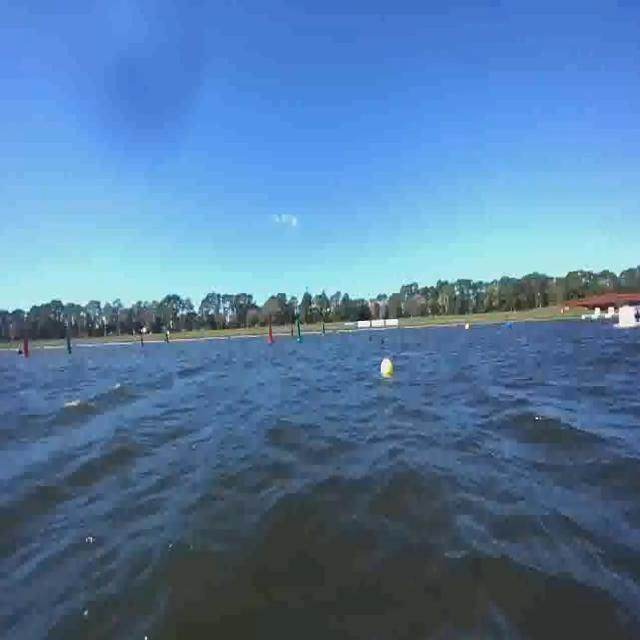blue-buoy: (505, 320, 512, 330)
green-column-buoy: (64, 328, 75, 357), (295, 316, 302, 342), (321, 320, 326, 336)
red-column-buoy: (21, 336, 30, 360), (269, 326, 276, 346)
yellow-buoy: (382, 356, 394, 375)
